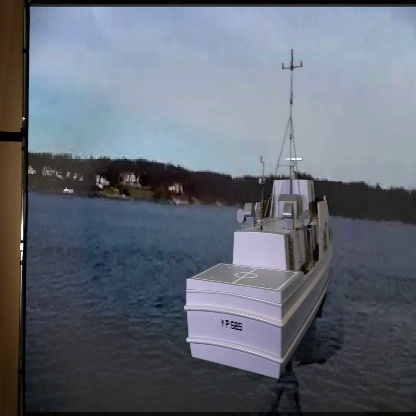YP689: (184, 50, 336, 379)
